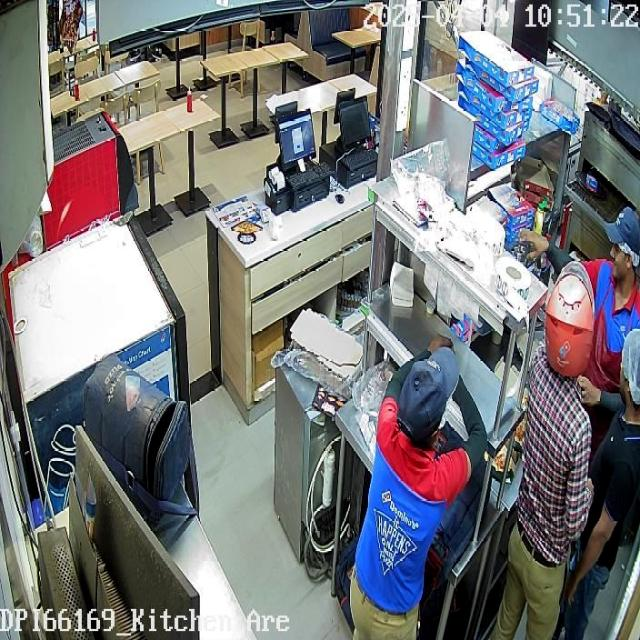helmet: (544, 262, 595, 378)
no_helmet: (396, 346, 460, 445), (604, 206, 639, 296)
